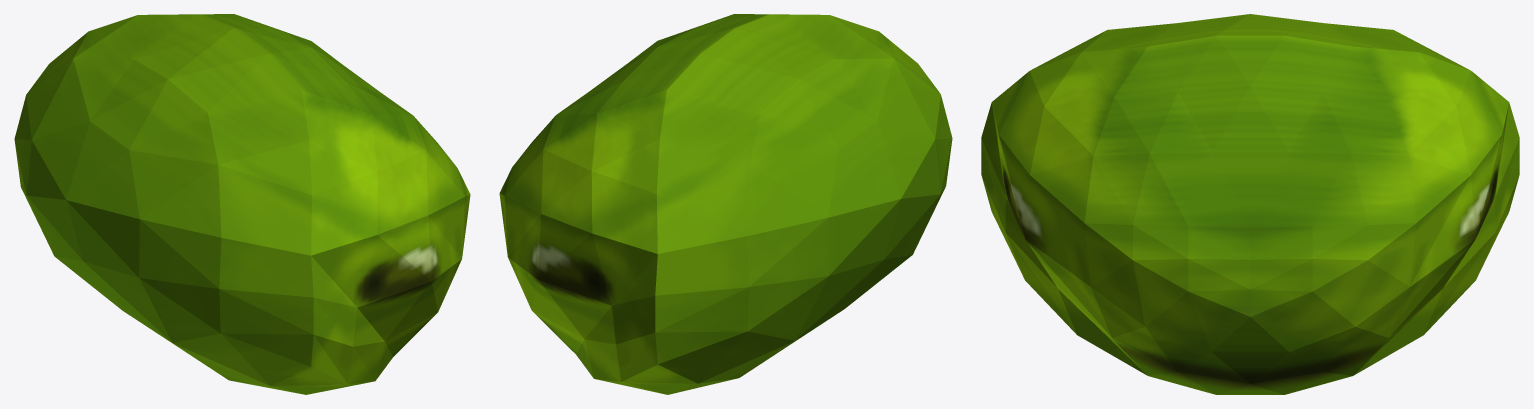
Rendered from mother2.obj.
The picture shows the model from 3 angles, left to right: view 1: azimuth 30°, elevation 25°; view 2: azimuth 150°, elevation 25°; view 3: azimuth 270°, elevation 25°; orthographic projection.
Parts seen in each view (by area): view 1: ColobotMesh_1_ColobotMesh_; view 2: ColobotMesh_1_ColobotMesh_; view 3: ColobotMesh_1_ColobotMesh_.
Boxes of the visible parts, x1,y1,x2,y2 form: ColobotMesh_1_ColobotMesh_: (14,14,470,394); ColobotMesh_1_ColobotMesh_: (499,14,952,394); ColobotMesh_1_ColobotMesh_: (981,14,1519,394).
Bounding box in the file's own units: 12.76 × 11.01 × 16.57.
